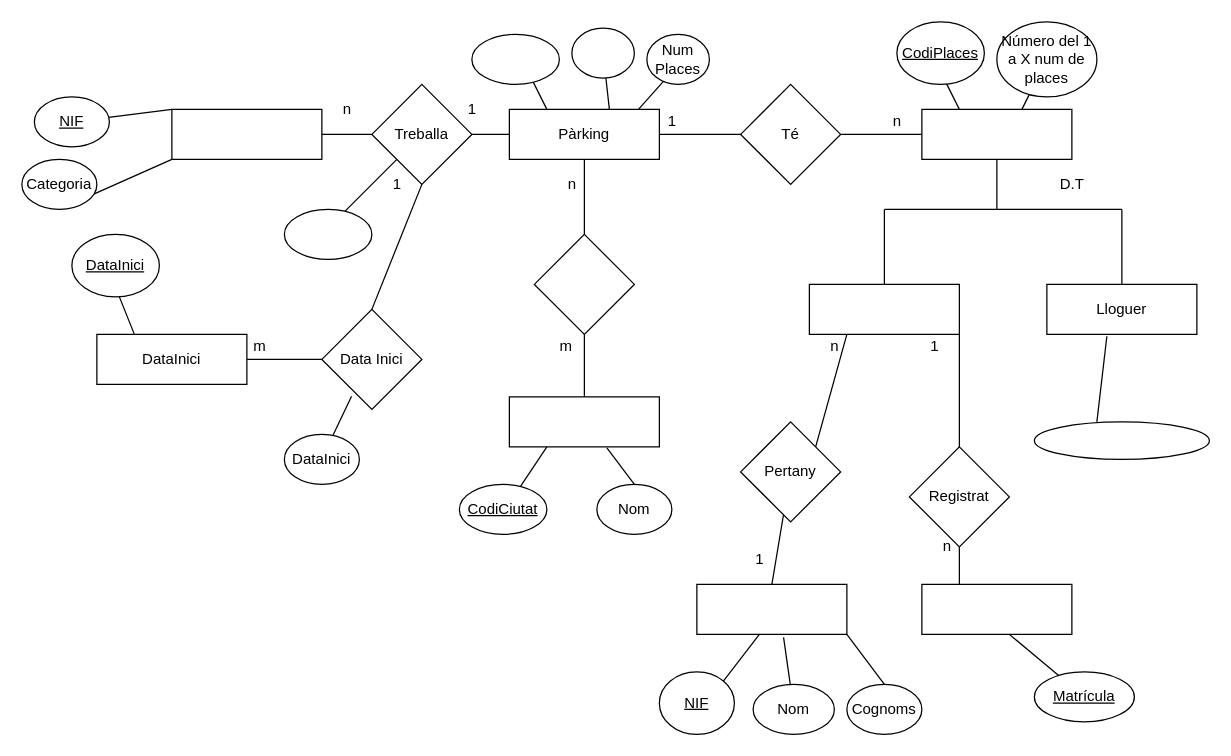
The diagram is 1231 pixels wide and 756 high, and some of its shapes have lost their labels. Each missing label, with the centre of its shape:
"Adreça" belongs at (602,52).
"Ciutat" belongs at (583,421).
"CodiParking" belongs at (515,58).
"Cotxe" belongs at (996,608).
"DataFi" belongs at (327,233).
"Localització" belongs at (583,283).
"Personal" belongs at (246,133).
"Places" belongs at (996,133).
"PlacesDisponibles" belongs at (1121,440).
"Propietari" belongs at (771,608).
"Venudes" belongs at (883,308).
